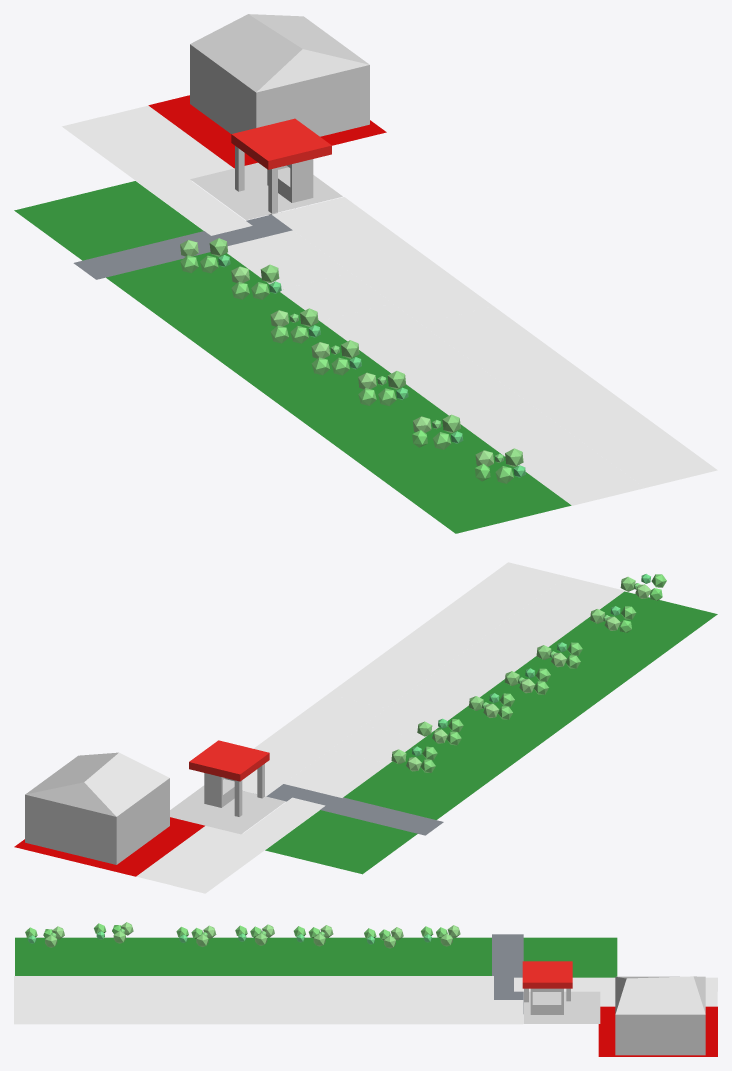
File: arvore.glb
3 views of the same model, one above another, from view 1: azimuth 30°, elevation 25°; view 2: azimuth 150°, elevation 25°; view 3: azimuth 270°, elevation 25° (orthographic). The views are drawn at different scales.
Visible parts, largest first — view 1: Cube.007, Plane.030, Plane, Plane.001, Plane.013, Plane.012, Plane.011, Plane.034, Plane.036, Plane.032, Plane.033, Cube.009 (+22 smaller); view 2: Cube.007, Plane.030, Plane.013, Plane, Plane.012, Plane.001, Plane.011, Plane.034, Plane.032, Plane.033, Plane.035, Plane.036 (+23 smaller); view 3: Cube.007, Plane.011, Plane, Plane.001, Plane.013, Plane.012, Plane.030, Plane.032, Plane.033, Plane.035, Plane.024, Plane.026 (+23 smaller).
Part boxes in pixels (<box>): Cube.007: <box>190,14,369,136</box>; Plane.030: <box>14,181,203,260</box>; Plane: <box>386,456,571,533</box>; Plane.001: <box>316,403,501,482</box>; Plane.013: <box>106,252,290,328</box>; Plane.012: <box>175,300,360,379</box>; Plane.011: <box>246,351,430,431</box>; Plane.034: <box>62,116,252,235</box>; Plane.036: <box>103,105,233,181</box>; Plane.032: <box>73,214,292,279</box>; Plane.033: <box>190,162,342,220</box>; Cube.009: <box>231,118,331,169</box>; Cube.007: <box>25,752,169,864</box>; Plane.030: <box>265,810,417,874</box>; Plane.013: <box>343,758,491,819</box>; Plane: <box>568,591,717,655</box>; Plane.012: <box>405,715,548,779</box>; Plane.001: <box>514,632,661,696</box>; Plane.011: <box>456,676,604,737</box>; Plane.034: <box>172,797,325,893</box>; Plane.032: <box>266,784,443,835</box>; Plane.033: <box>170,785,285,834</box>; Plane.035: <box>14,817,204,876</box>; Plane.036: <box>136,826,242,885</box>; Cube.007: <box>615,976,705,1055</box>; Plane.011: <box>206,937,301,975</box>; Plane: <box>15,937,110,975</box>; Plane.001: <box>110,937,205,975</box>; Plane.013: <box>397,937,491,975</box>; Plane.012: <box>301,937,397,975</box>; Plane.030: <box>523,937,617,977</box>; Plane.032: <box>492,934,523,1013</box>; Plane.033: <box>523,991,600,1023</box>; Plane.035: <box>598,1006,717,1056</box>; Plane.024: <box>319,1000,376,1024</box>; Plane.026: <box>416,1000,473,1024</box>.
Size of the model in its own units: 60.76 by 14.88 by 147.
